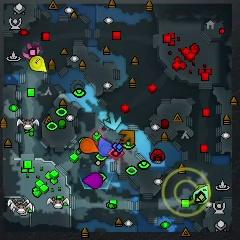p1: (98, 137, 113, 156)
p2: (193, 185, 208, 204)
p3: (82, 172, 102, 189)
p4: (30, 56, 47, 73)
p5: (79, 138, 99, 153)
x1: (23, 42, 40, 60)
x2: (195, 184, 211, 200)
x3: (104, 112, 121, 129)
x5: (119, 130, 135, 146)
